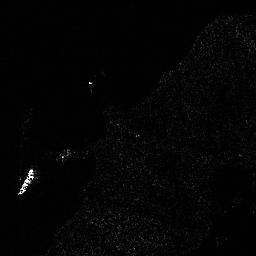ship: (17, 167, 38, 196)
